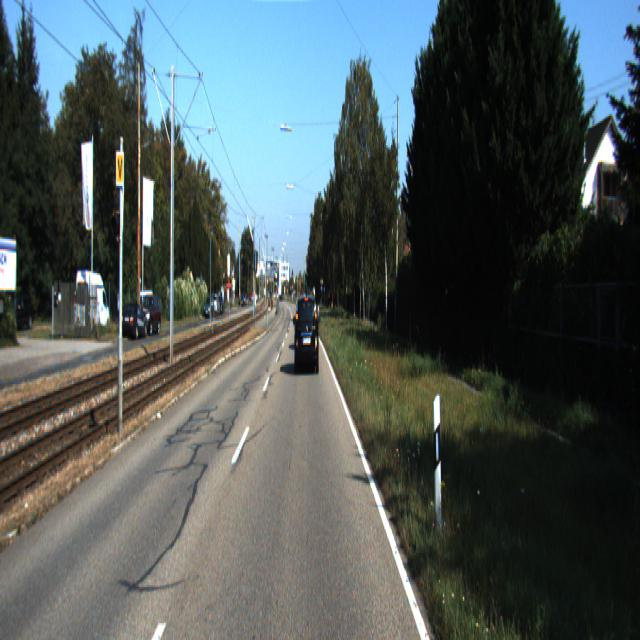Car: (75, 272, 111, 341), (295, 292, 320, 374), (120, 304, 150, 345), (137, 295, 163, 336)
